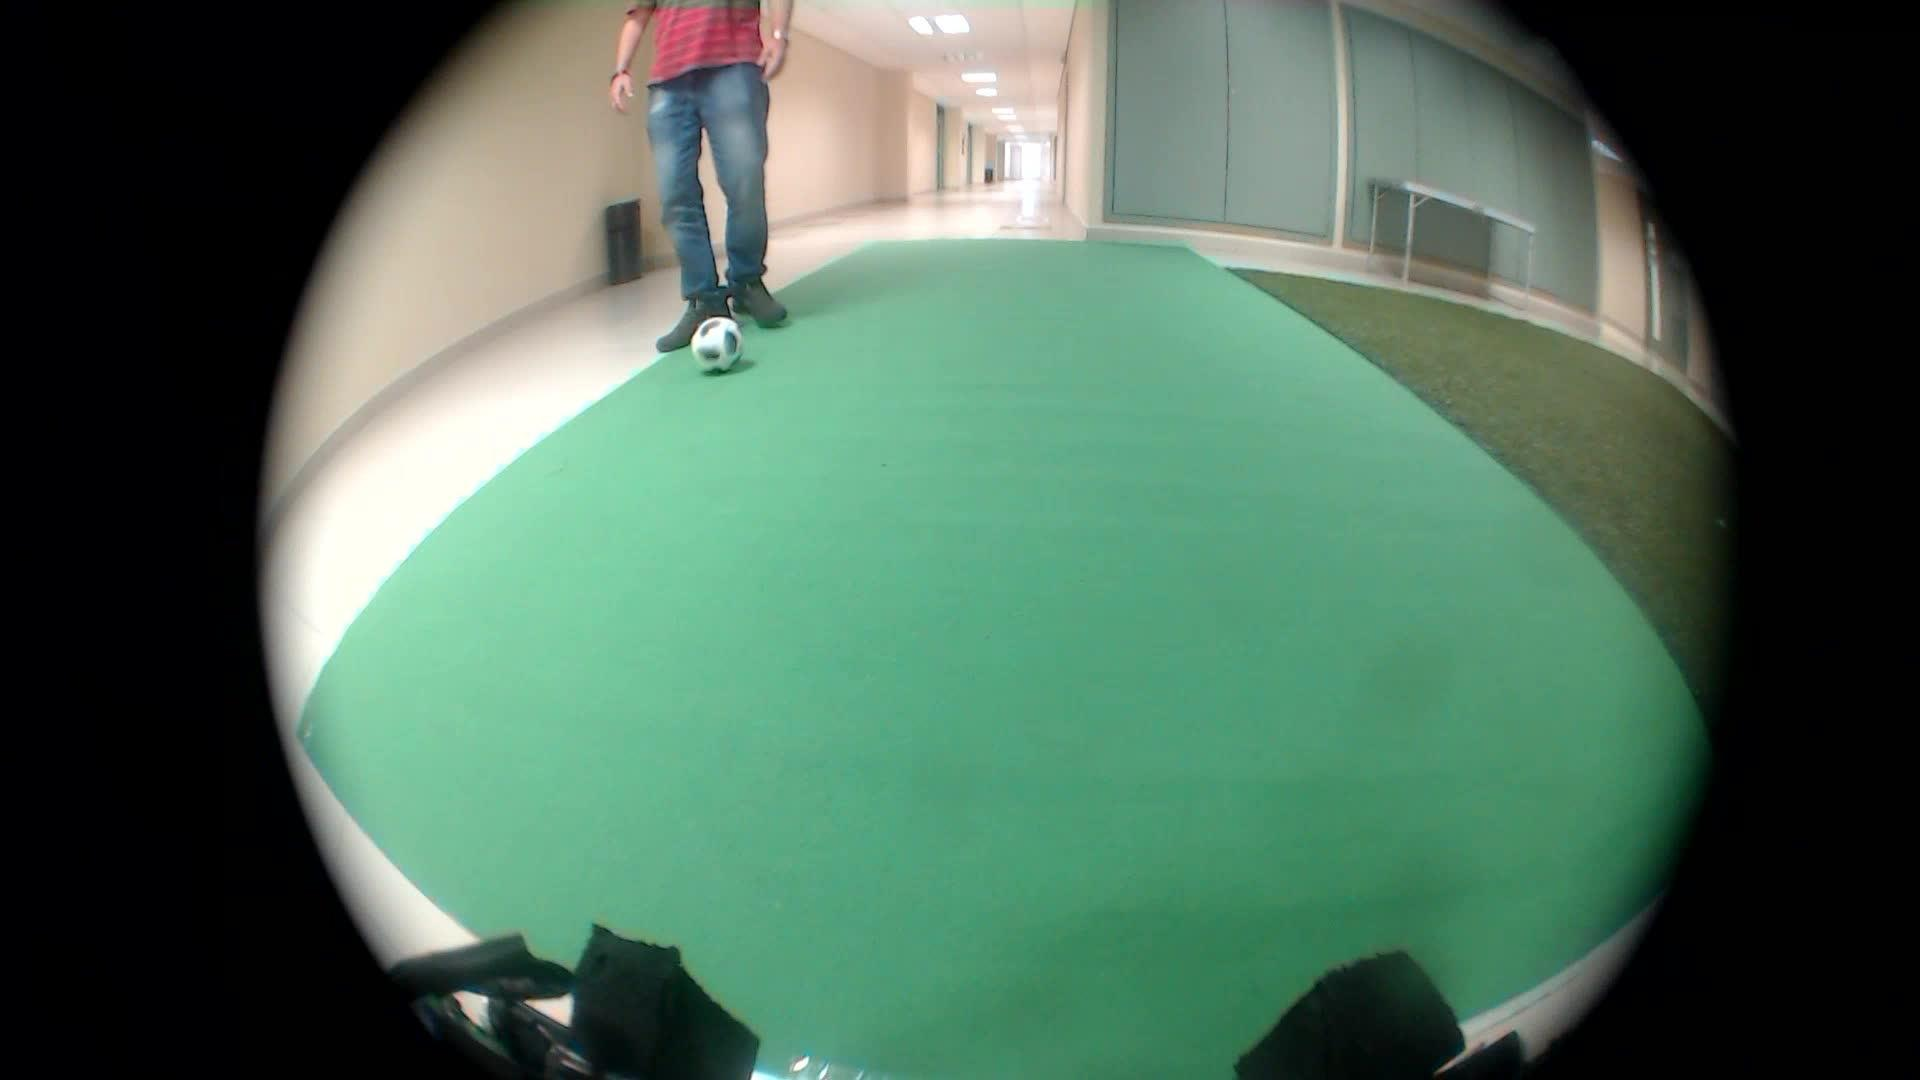ball: (686, 313, 752, 381)
